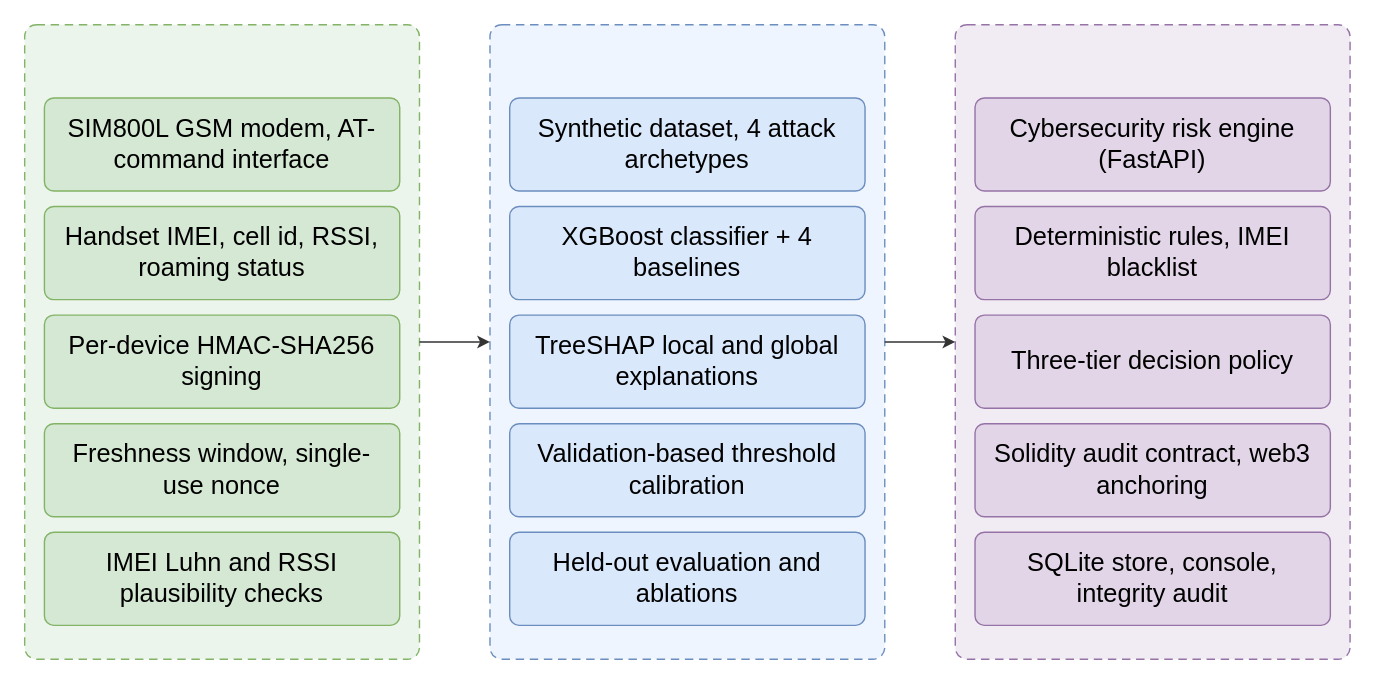
This 1375x684 diagram has some shape labels left out. The shapes that lost their labels are listed below. From the top down, each one's box as (x1, y1, x2, y2) in pixels, then its label:
(23, 23, 419, 659): ECE: hardware edge
(489, 23, 885, 659): CSE: data science and AI
(954, 23, 1350, 659): IT: governance, security
